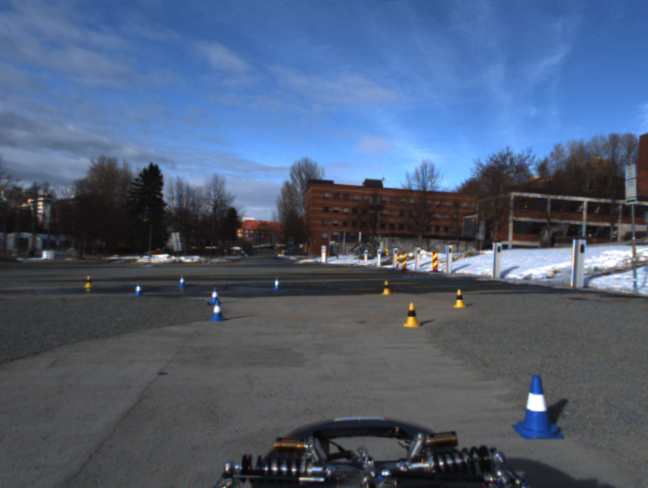cone-small-blue: (510, 375, 564, 440), (207, 299, 228, 320), (208, 286, 222, 304), (271, 277, 282, 290), (134, 282, 145, 295), (178, 276, 187, 288)
cone-small-yellow: (401, 302, 421, 328), (452, 289, 467, 308), (380, 280, 393, 294), (84, 274, 94, 287)
